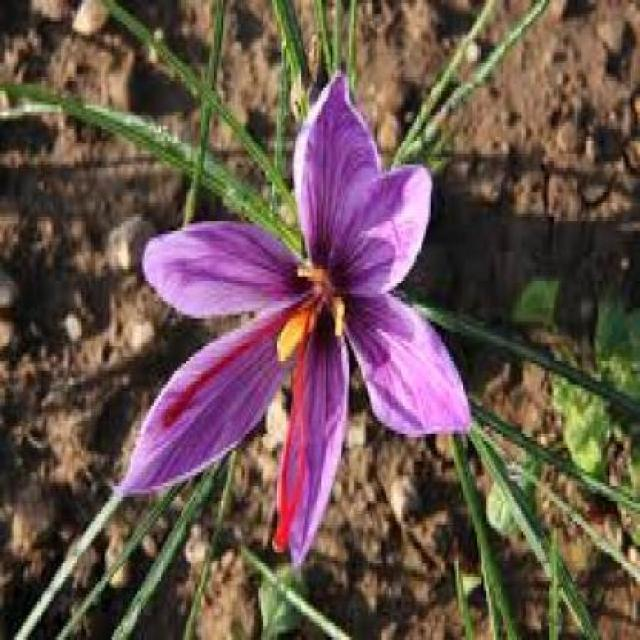saffron open: (138, 75, 467, 564)
